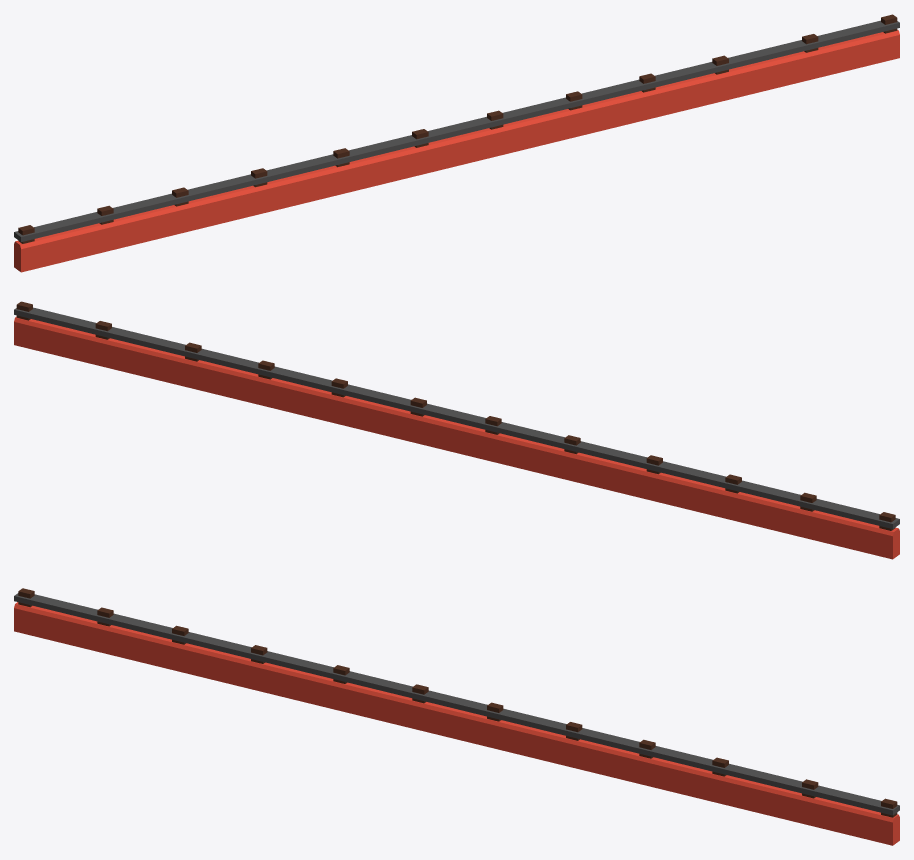
File: Solid Fence.fbx
3 renders of one model, top to bottom at view 1: azimuth 30°, elevation 25°; view 2: azimuth 150°, elevation 25°; view 3: azimuth 330°, elevation 25°, orthographic.
Visible parts, largest first — view 1: pCube1, pCube7; view 2: pCube1, pCube7; view 3: pCube1, pCube7.
Boxes of the visible parts, x1,y1,x2,y2 form: pCube1: (14, 30, 899, 272); pCube7: (14, 20, 899, 242); pCube1: (14, 316, 899, 559); pCube7: (14, 307, 899, 528); pCube1: (14, 602, 899, 845); pCube7: (14, 593, 899, 815).
Bounding box in the file's own units: 120 × 5.18 × 1.69.
Materials: 1 (1 with a texture image).
